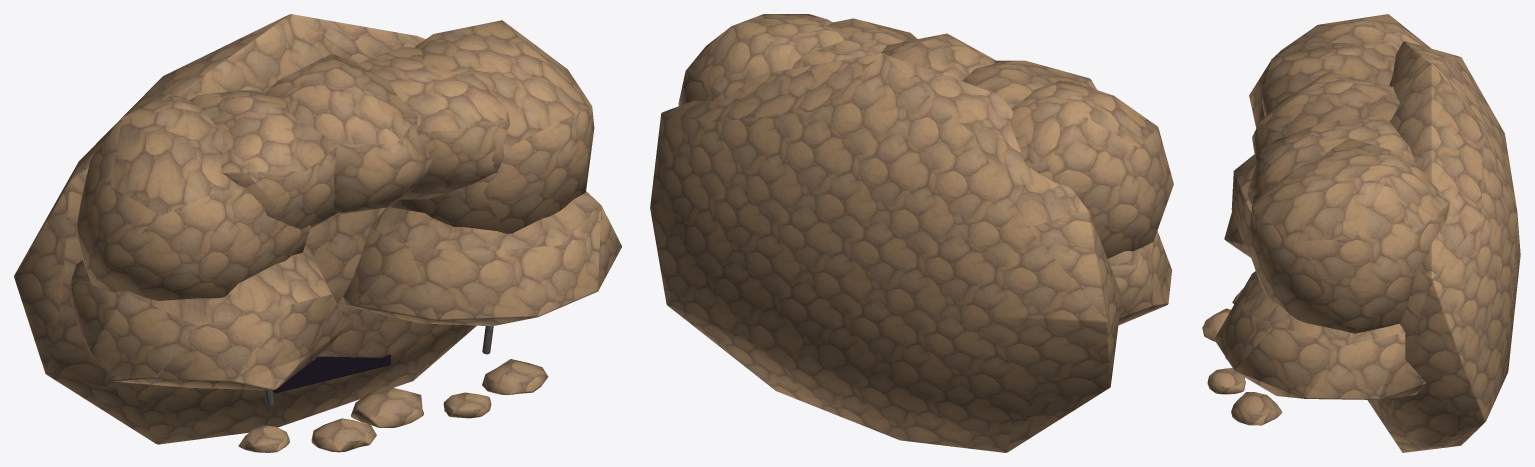
The model's file is cave_mouth.gltf.
3 renders of one model, left to right at view 1: azimuth 30°, elevation 25°; view 2: azimuth 150°, elevation 25°; view 3: azimuth 270°, elevation 25°, orthographic. The views are drawn at different scales.
Parts seen in each view (by area): view 1: cave_mouth; view 2: cave_mouth; view 3: cave_mouth.
Part boxes in pixels (x1=…): cave_mouth: x1=14, y1=14, x2=621, y2=452; cave_mouth: x1=650, y1=14, x2=1173, y2=452; cave_mouth: x1=1202, y1=14, x2=1520, y2=452.
Bounding box in the file's own units: 13.45 × 9.85 × 7.89.
4 materials, 4 textured.
